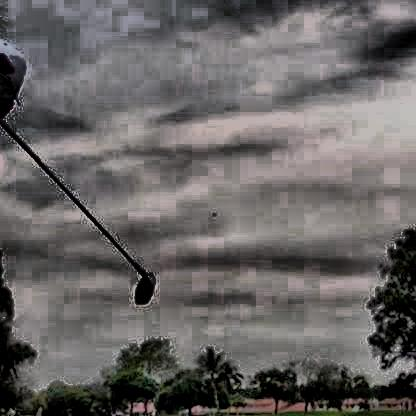golfball: (206, 207, 216, 215)
